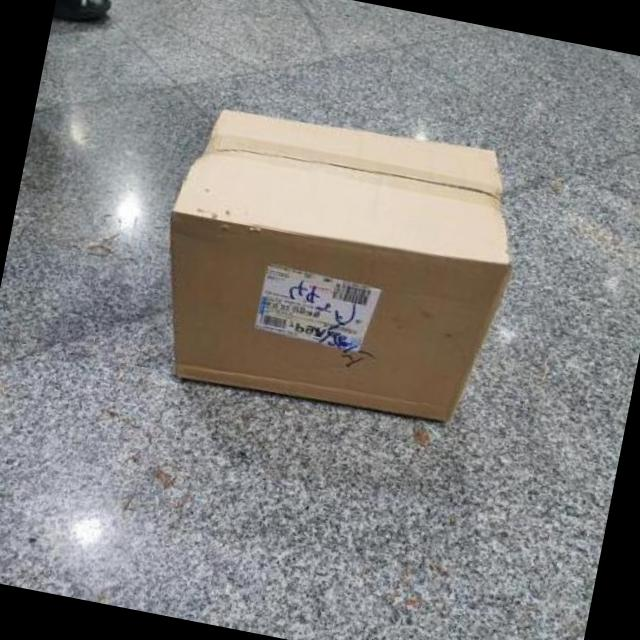box: (136, 78, 533, 445)
